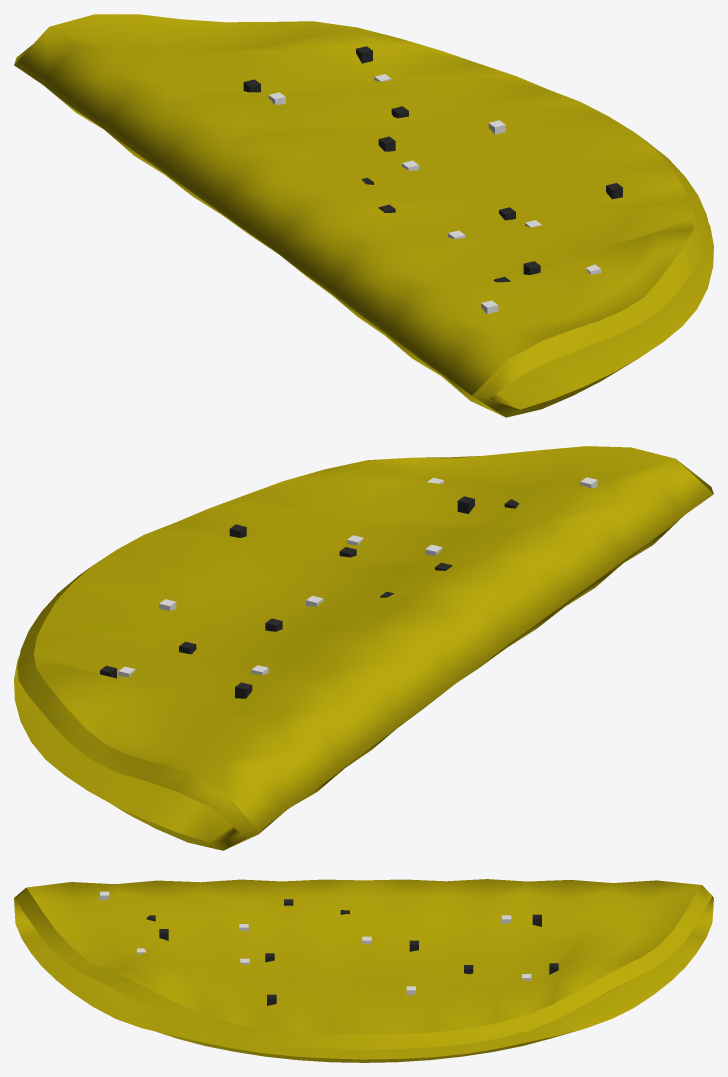
Rendered from omelette.fbx.
The picture shows the model from 3 angles, top to bottom: view 1: azimuth 30°, elevation 25°; view 2: azimuth 150°, elevation 25°; view 3: azimuth 270°, elevation 25°; orthographic projection. The views are drawn at different scales.
Parts seen in each view (by area): view 1: omlette; view 2: omlette; view 3: omlette.
Boxes of the visible parts, box(x1,y1,x2,y2) form: omlette: box(14, 14, 713, 417); omlette: box(14, 446, 713, 850); omlette: box(14, 879, 713, 1062).
Bounding box in the file's own units: 22.57 × 3.8 × 44.89.
